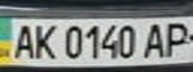0: (115, 21, 142, 60), (60, 21, 84, 60)
1: (81, 21, 103, 60)
4: (100, 21, 121, 60)
A: (6, 20, 39, 61), (139, 20, 172, 60)
K: (30, 20, 57, 61)
P: (160, 19, 193, 58)
